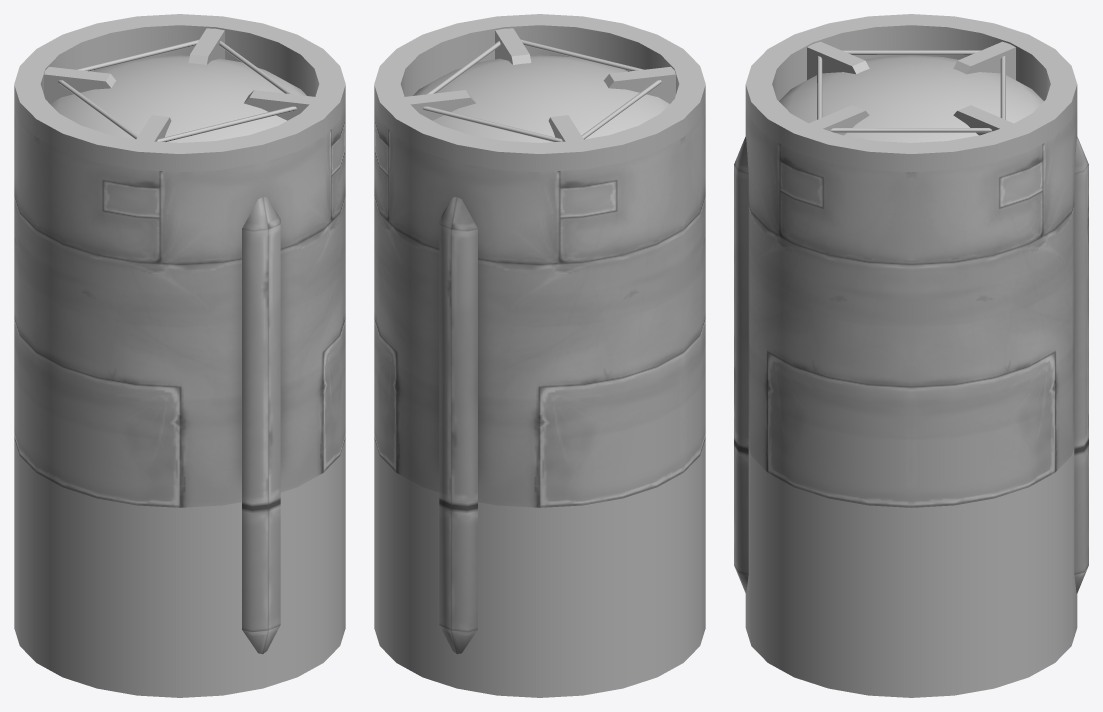
Rendered from AgenaBfuelTank.dae.
3 renders of one model, left to right at view 1: azimuth 30°, elevation 25°; view 2: azimuth 150°, elevation 25°; view 3: azimuth 270°, elevation 25°, orthographic.
Visible parts, largest first — view 1: LongWhiteTank2, LongWhiteTank1; view 2: LongWhiteTank2, LongWhiteTank1; view 3: LongWhiteTank2, LongWhiteTank1.
Boxes of the visible parts, bbox=[...] form: LongWhiteTank2: bbox=[14, 103, 345, 654]; LongWhiteTank1: bbox=[14, 14, 345, 697]; LongWhiteTank2: bbox=[374, 103, 705, 654]; LongWhiteTank1: bbox=[374, 14, 705, 697]; LongWhiteTank2: bbox=[734, 103, 1088, 593]; LongWhiteTank1: bbox=[745, 14, 1077, 697].
Size of the model in its own units: 0.9375 by 1.7 by 1.
